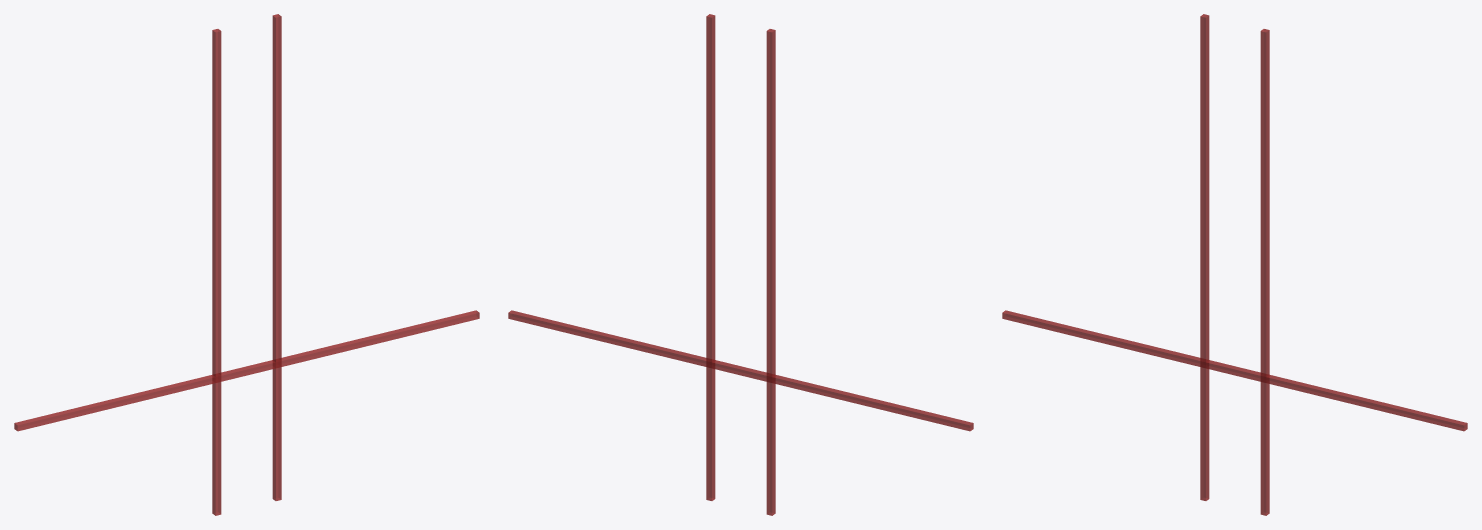
File: Lvl_003.fbx
The picture shows the model from 3 angles, left to right: view 1: azimuth 30°, elevation 25°; view 2: azimuth 150°, elevation 25°; view 3: azimuth 330°, elevation 25°; orthographic projection.
Parts seen in each view (by area): view 1: pCube8, pCube3, pCube12; view 2: pCube8, pCube3, pCube12; view 3: pCube3, pCube8, pCube12.
Boxes of the visible parts, x1,y1,x2,y2 form: pCube8: [212, 29, 221, 515]; pCube3: [272, 14, 281, 500]; pCube12: [14, 310, 479, 431]; pCube8: [766, 29, 775, 515]; pCube3: [706, 14, 715, 500]; pCube12: [508, 310, 973, 431]; pCube3: [1260, 29, 1269, 515]; pCube8: [1200, 14, 1209, 500]; pCube12: [1002, 310, 1467, 431].
Bounding box in the file's own units: 2000 × 2000 × 25.
